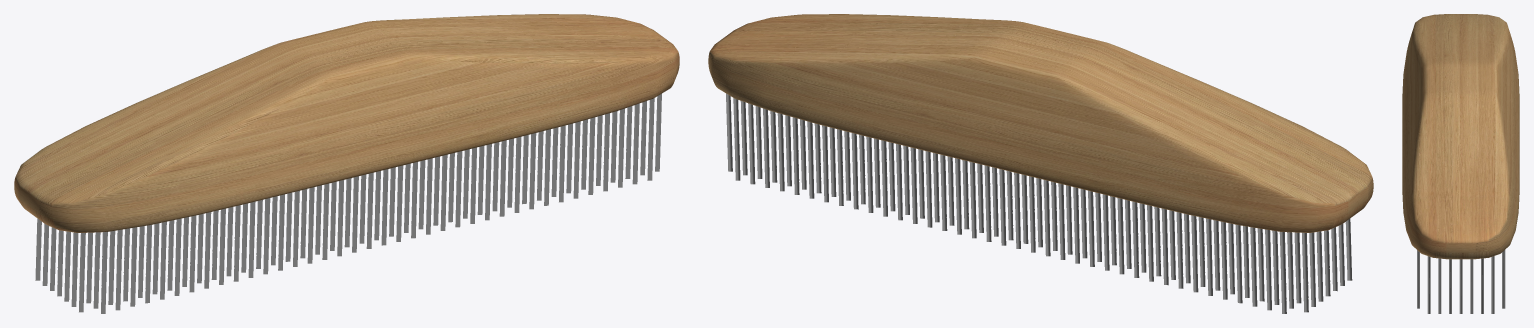
The model's file is Brosse_V1.fbx.
3 renders of one model, left to right at view 1: azimuth 30°, elevation 25°; view 2: azimuth 150°, elevation 25°; view 3: azimuth 270°, elevation 25°, orthographic. The views are drawn at different scales.
Visible parts, largest first — view 1: Brosse1; view 2: Brosse1; view 3: Brosse1.
Part boxes in pixels (box(x1,y1,x2,y2)): Brosse1: box(14, 14, 679, 313); Brosse1: box(708, 14, 1373, 313); Brosse1: box(1402, 14, 1519, 313).
Size of the model in its own units: 6.06 by 1.63 by 1.32.
